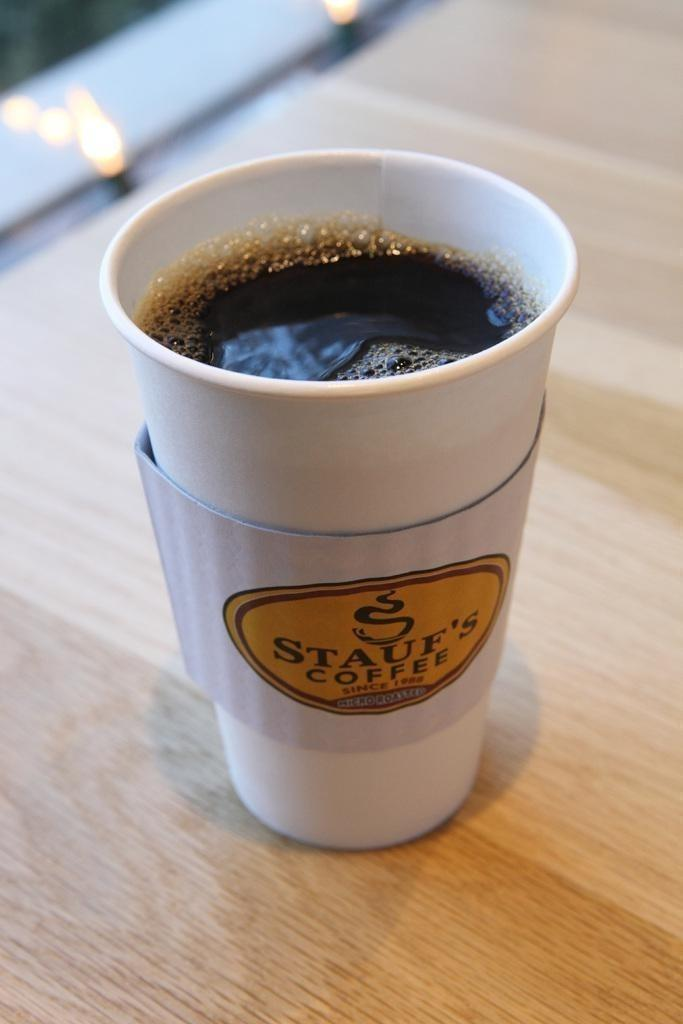cup-disposable: (100, 148, 581, 854)
